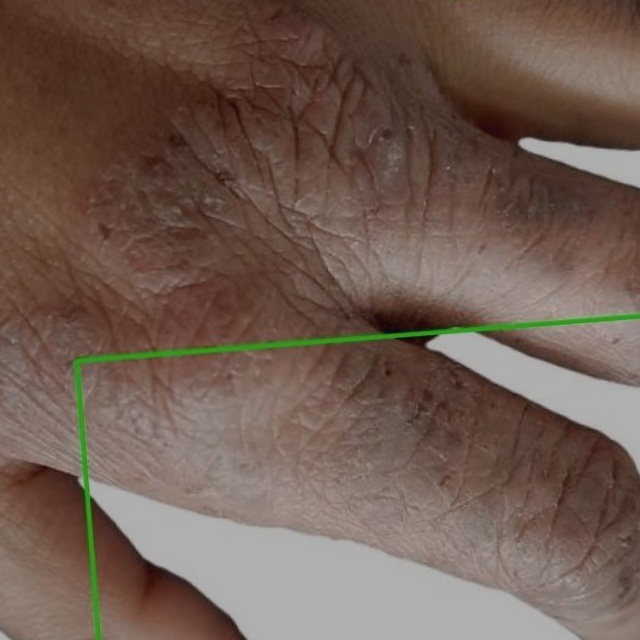Eczema: (77, 316, 639, 639)
